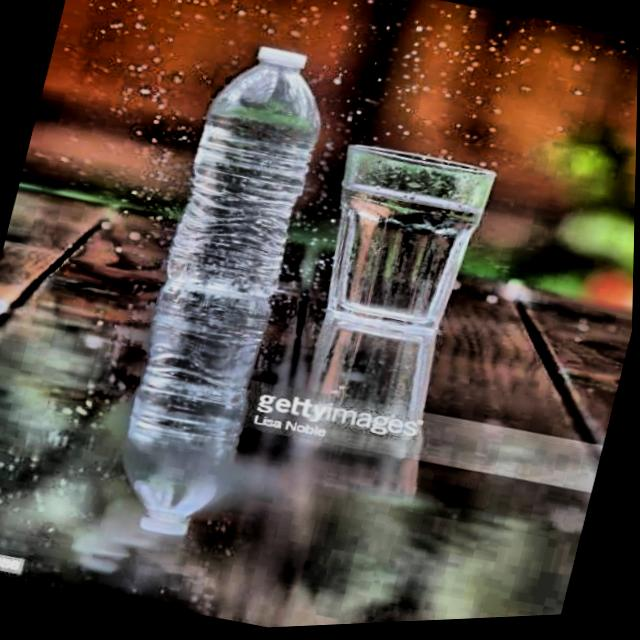Bottles: (148, 22, 355, 327)
